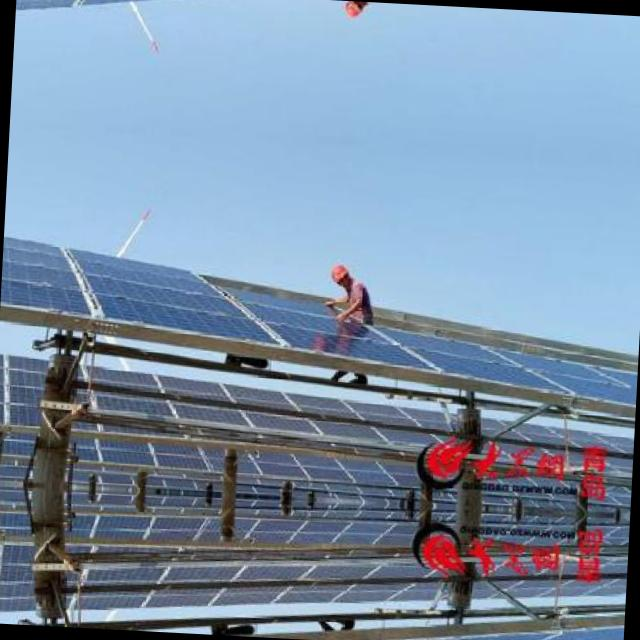helmet: (327, 260, 352, 287), (340, 1, 367, 20)
